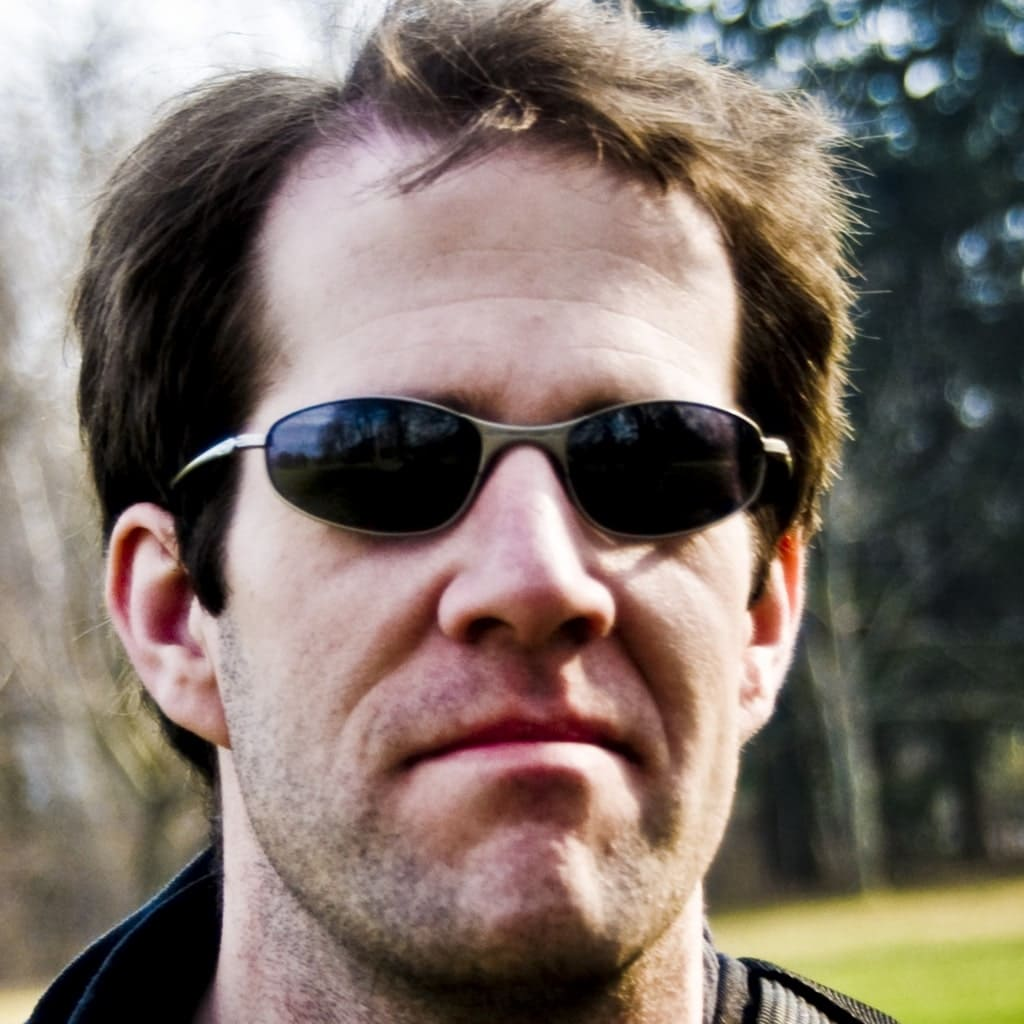without_mask: (260, 280, 748, 890)
